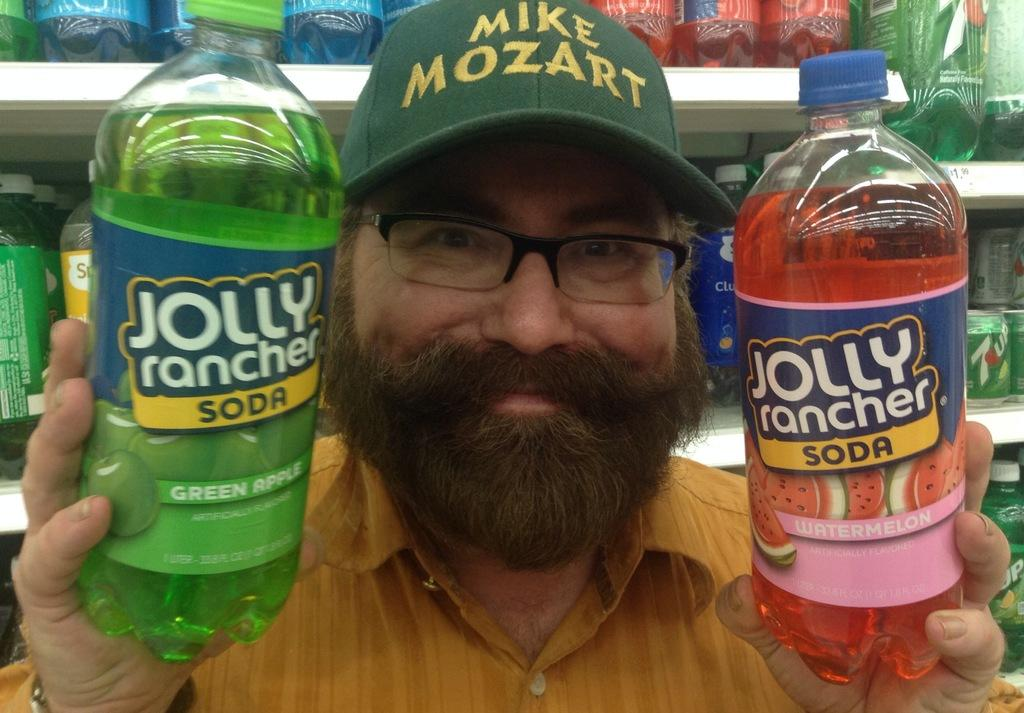Hat: (340, 0, 740, 231)
